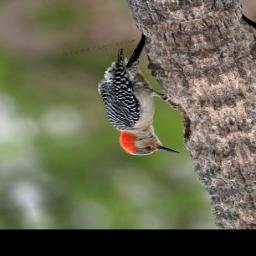Woodpecker: (69, 25, 197, 169)
